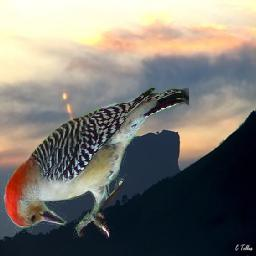Woodpecker: (1, 83, 189, 240)
